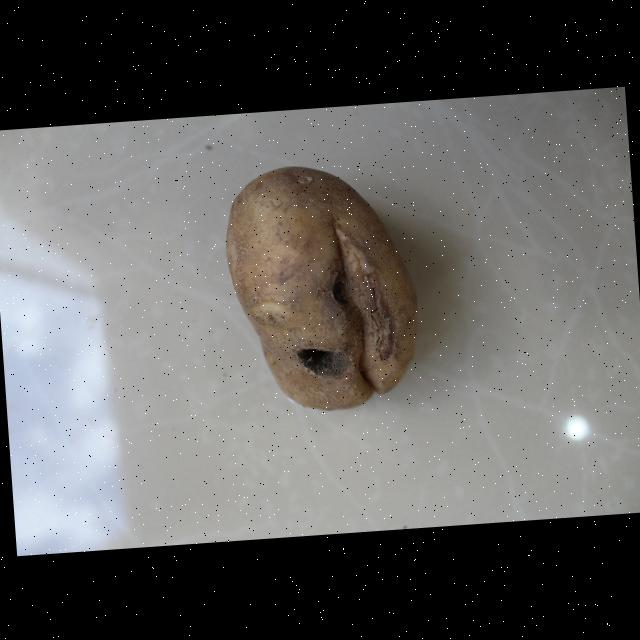Diseased-fungal potato: (210, 216, 424, 487)
